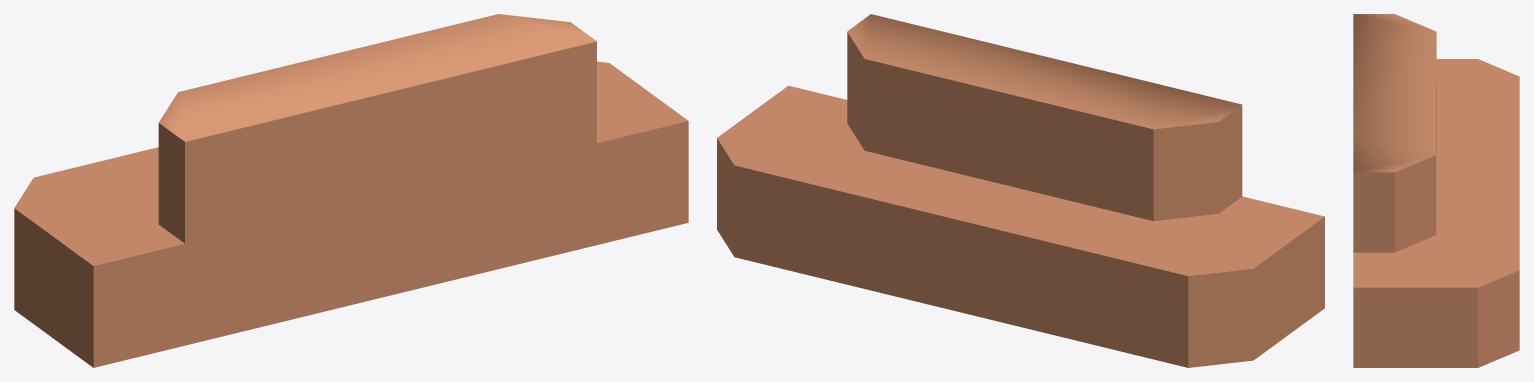
The model's file is Steps.fbx.
3 renders of one model, left to right at view 1: azimuth 30°, elevation 25°; view 2: azimuth 150°, elevation 25°; view 3: azimuth 270°, elevation 25°, orthographic. The views are drawn at different scales.
Visible parts, largest first — view 1: Steps; view 2: Steps; view 3: Steps.
Boxes of the visible parts, x1,y1,x2,y2 form: Steps: [14, 14, 688, 367]; Steps: [717, 14, 1324, 367]; Steps: [1353, 14, 1519, 367].
Bounding box in the file's own units: 195 × 63.75 × 60.
